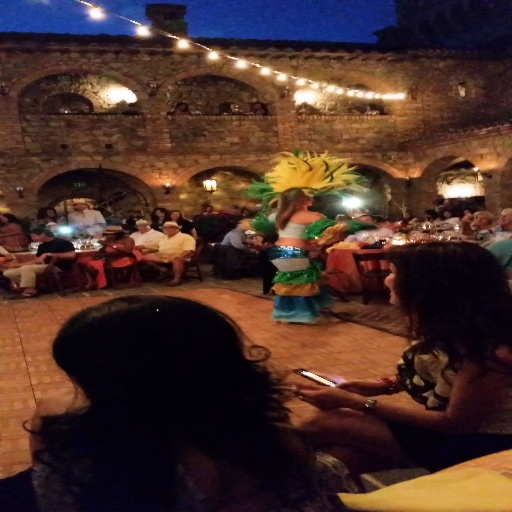hand: (326, 377, 400, 397)
